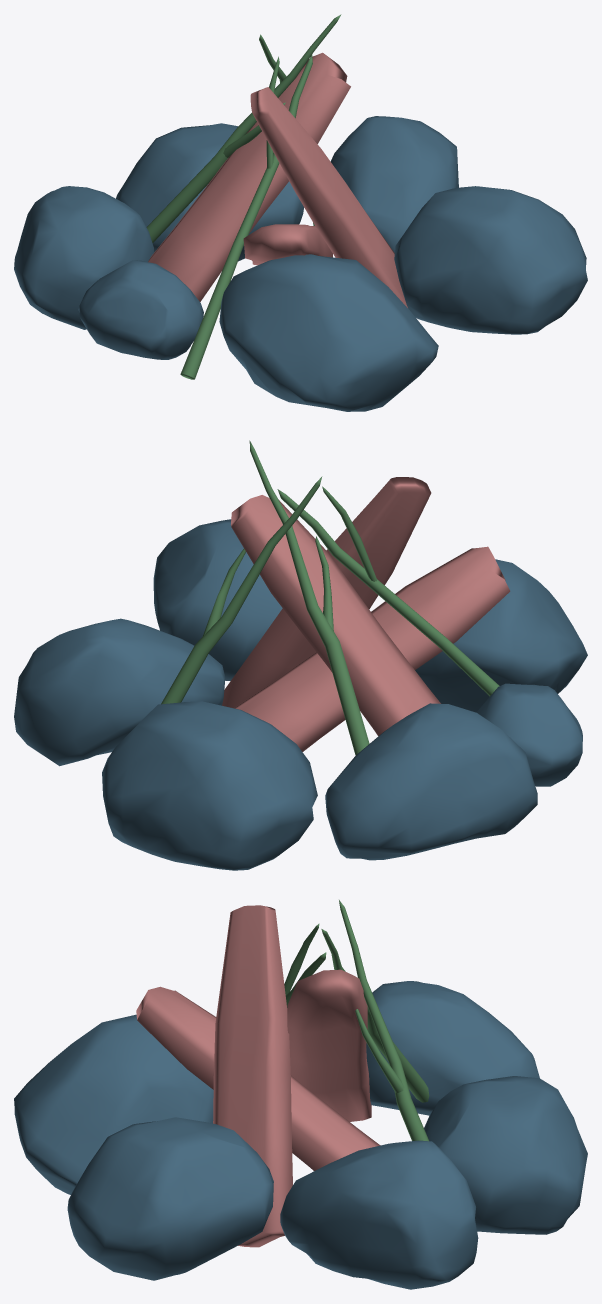
Rendered from Campfire_LP.fbx.
The picture shows the model from 3 angles, top to bottom: view 1: azimuth 30°, elevation 25°; view 2: azimuth 150°, elevation 25°; view 3: azimuth 270°, elevation 25°; orthographic projection. The views are drawn at different scales.
Parts seen in each view (by area): view 1: Firestone_1_Big_LP, Firestone_Med3_LP, Firestone_Med_LP, firewood_4_LP, Firestone_Small2_LP, firewood_3_LP, Firestone_Small_LP, Firestone_Med2_LP, twig_4_LP, twig_3_LP, firewood_5_LP; view 2: Firestone_Med2_LP, Firestone_Med_LP, Firestone_Small2_LP, firewood_4_LP, firewood_5_LP, Firestone_1_Big_LP, Firestone_Med3_LP, firewood_3_LP, Firestone_Small_LP, twig_3_LP, twig_4_LP, twig_5_LP; view 3: Firestone_Med3_LP, Firestone_Small2_LP, Firestone_1_Big_LP, Firestone_Med2_LP, firewood_3_LP, Firestone_Med_LP, firewood_4_LP, firewood_5_LP, twig_5_LP, twig_3_LP, twig_4_LP.
Boxes of the visible parts, <box> form: Firestone_1_Big_LP: <box>219,254,438,411</box>; Firestone_Med3_LP: <box>394,186,587,334</box>; Firestone_Med_LP: <box>14,186,153,329</box>; firewood_4_LP: <box>148,52,350,301</box>; Firestone_Small2_LP: <box>330,116,458,252</box>; firewood_3_LP: <box>250,87,407,307</box>; Firestone_Small_LP: <box>78,260,203,359</box>; Firestone_Med2_LP: <box>116,123,303,261</box>; twig_4_LP: <box>180,54,312,379</box>; twig_3_LP: <box>146,14,341,242</box>; firewood_5_LP: <box>243,224,332,265</box>; Firestone_Med2_LP: <box>102,701,317,870</box>; Firestone_Med_LP: <box>325,703,537,860</box>; Firestone_Small2_LP: <box>14,618,225,766</box>; firewood_4_LP: <box>231,495,440,735</box>; firewood_5_LP: <box>234,546,510,751</box>; Firestone_1_Big_LP: <box>415,559,587,712</box>; Firestone_Med3_LP: <box>153,519,282,680</box>; firewood_3_LP: <box>222,477,431,708</box>; Firestone_Small_LP: <box>476,683,582,786</box>; twig_3_LP: <box>249,440,369,755</box>; twig_4_LP: <box>277,486,499,696</box>; twig_5_LP: <box>161,476,322,704</box>; Firestone_Med3_LP: <box>67,1117,273,1280</box>; Firestone_Small2_LP: <box>280,1140,478,1289</box>; Firestone_1_Big_LP: <box>14,1014,213,1194</box>; Firestone_Med2_LP: <box>424,1076,587,1234</box>; firewood_3_LP: <box>213,905,292,1247</box>; Firestone_Med_LP: <box>366,981,539,1115</box>; firewood_4_LP: <box>287,969,371,1121</box>; firewood_5_LP: <box>136,986,380,1170</box>; twig_5_LP: <box>339,900,428,1141</box>; twig_3_LP: <box>321,929,429,1102</box>; twig_4_LP: <box>284,923,326,1007</box>.
Bounding box in the file's own units: 3.7 × 2.34 × 3.83.
